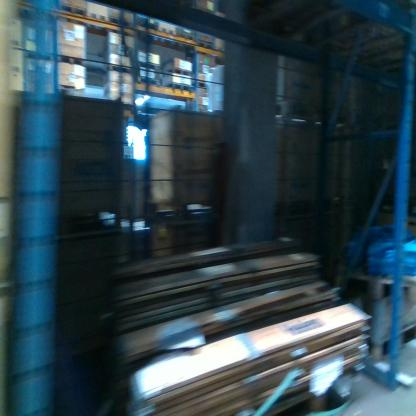pallet: (346, 271, 414, 299), (374, 319, 416, 361), (60, 208, 123, 236), (266, 389, 327, 415), (276, 98, 324, 120), (149, 200, 212, 216), (59, 3, 87, 17), (108, 15, 134, 28), (165, 81, 193, 93), (137, 17, 159, 32), (109, 63, 134, 76), (59, 56, 86, 68), (136, 76, 160, 88), (162, 67, 193, 76), (136, 60, 160, 71), (177, 30, 195, 42), (87, 11, 107, 21), (197, 40, 214, 51), (159, 26, 176, 36), (197, 81, 207, 89)
